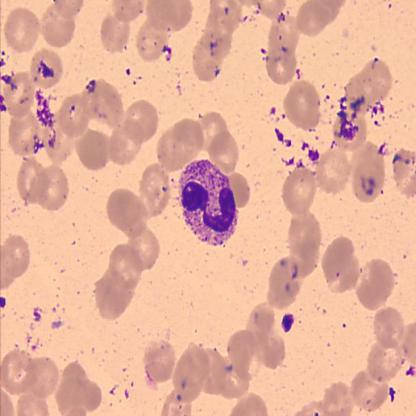Segmented neutrophil: (176, 155, 242, 246)
